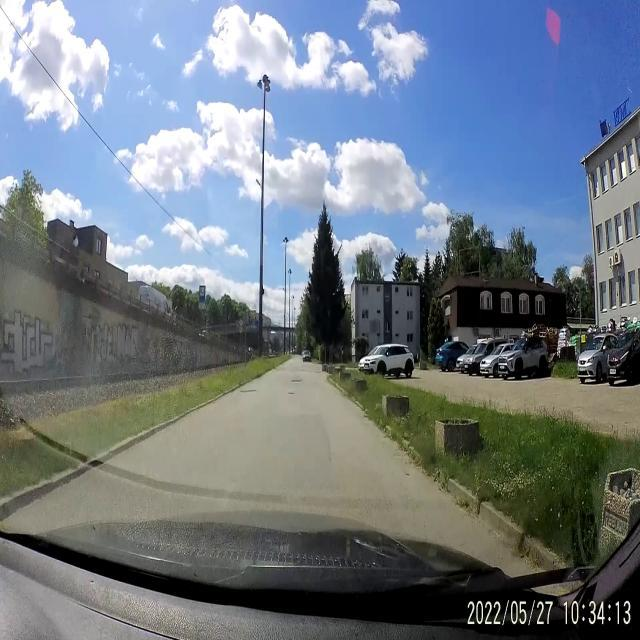Pothole: (239, 385, 258, 397), (290, 376, 302, 386), (286, 390, 298, 396)
